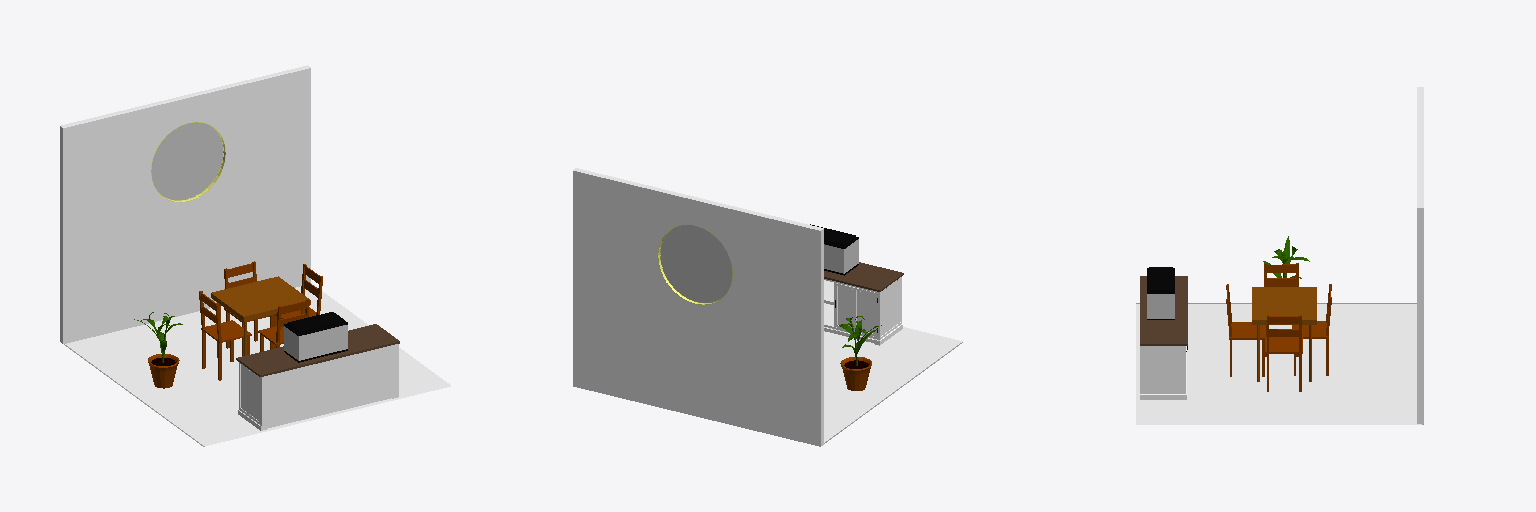
The model's file is ComedorIzquierda.obj.
3 views of the same model, side by side, from view 1: azimuth 30°, elevation 25°; view 2: azimuth 150°, elevation 25°; view 3: azimuth 270°, elevation 25° (orthographic).
Parts seen in each view (by area): view 1: wall_1_5, room_2_8, dresser_86, sweethome3d_window_pane_10, Plateau_49, top_88, sweethome3d_window_pane_110, Top_21_112, Pot_16_35, Assise_82; view 2: wall_1_4, room_2_8, sweethome3d_window_pane_10, dresser_86, sweethome3d_opening_on_hinge_2_door_97, top_88, sweethome3d_window_pane_110, Pot_16_35; view 3: room_2_8, dresser_86, Plateau_49, top_88, wall_1_4, sweethome3d_window_pane_110, wall_1_5, Top_21_112, Assise_55, Assise_73.
Boxes of the visible parts, <box> form: wall_1_5: <box>62,68,310,343</box>; room_2_8: <box>65,283,450,445</box>; dresser_86: <box>238,344,398,430</box>; sweethome3d_window_pane_10: <box>151,122,222,199</box>; Plateau_49: <box>211,276,310,321</box>; top_88: <box>236,324,399,376</box>; sweethome3d_window_pane_110: <box>284,325,347,360</box>; Top_21_112: <box>287,312,345,333</box>; Pot_16_35: <box>148,354,179,388</box>; Assise_82: <box>201,320,251,342</box>; wall_1_4: <box>573,171,821,446</box>; room_2_8: <box>824,327,962,442</box>; sweethome3d_window_pane_10: <box>660,225,732,302</box>; dresser_86: <box>824,277,902,345</box>; sweethome3d_opening_on_hinge_2_door_97: <box>835,283,876,336</box>; top_88: <box>824,262,903,291</box>; sweethome3d_window_pane_110: <box>824,239,858,273</box>; Pot_16_35: <box>840,357,871,390</box>; room_2_8: <box>1136,304,1421,424</box>; dresser_86: <box>1140,346,1186,399</box>; Plateau_49: <box>1252,287,1316,324</box>; top_88: <box>1140,276,1187,345</box>; wall_1_4: <box>1420,208,1423,423</box>; sweethome3d_window_pane_110: <box>1147,294,1174,318</box>; wall_1_5: <box>1417,208,1419,423</box>; Top_21_112: <box>1149,267,1172,291</box>; Assise_55: <box>1265,337,1302,353</box>; Assise_73: <box>1229,322,1265,339</box>.
Size of the model in its own units: 302 by 250 by 301.